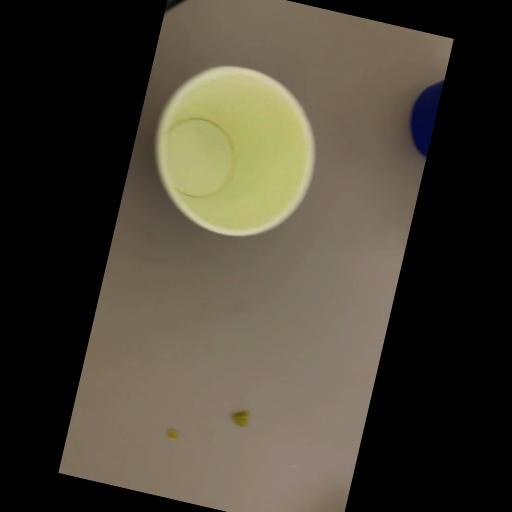lp_paper_cup: (116, 41, 348, 265), (394, 68, 446, 162)
